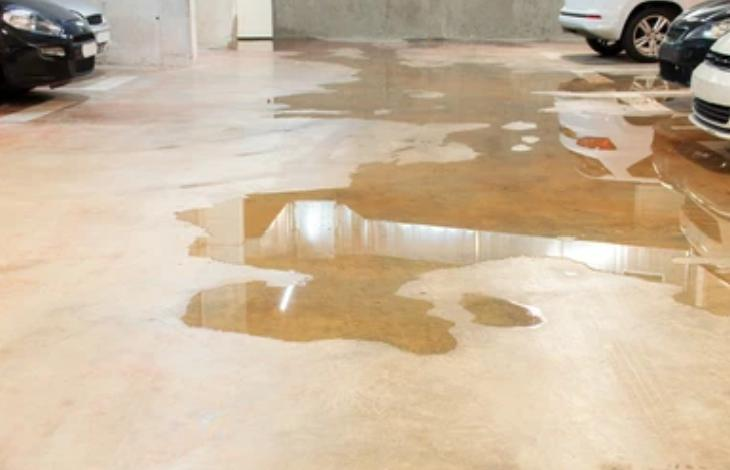water accumulation: (174, 37, 730, 357)
